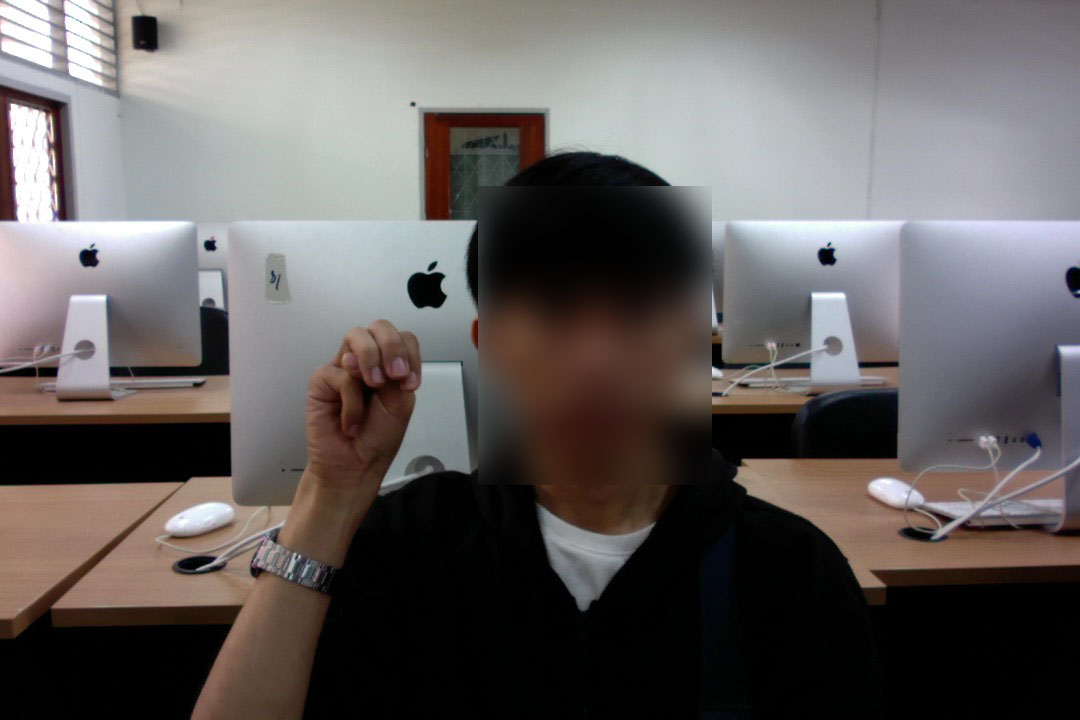mor: (303, 311, 425, 501)
